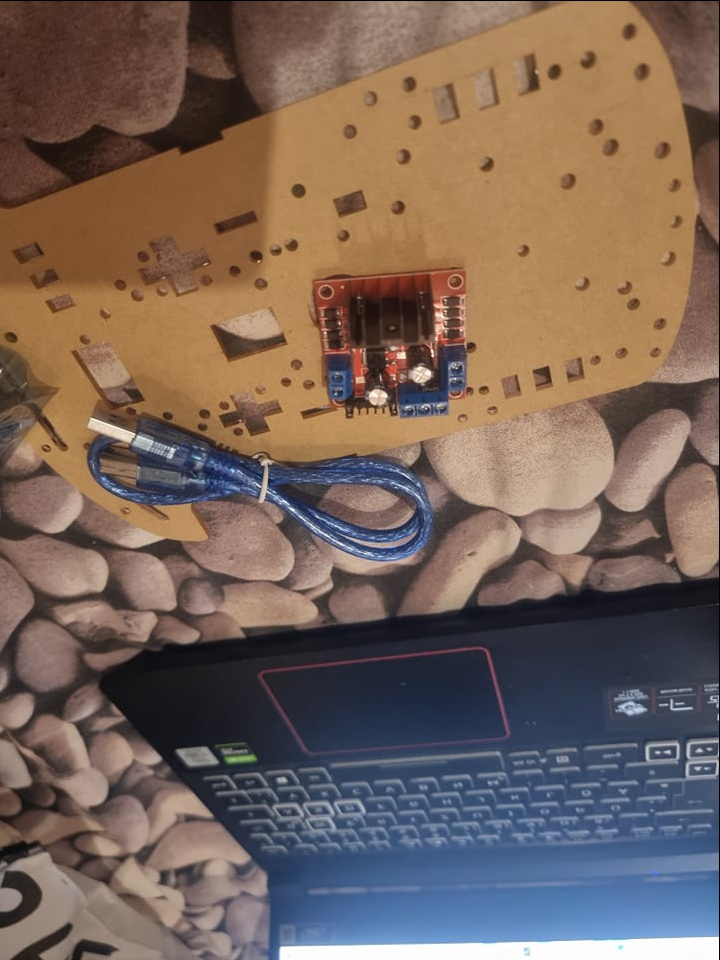MOTOR: (309, 265, 472, 417)
